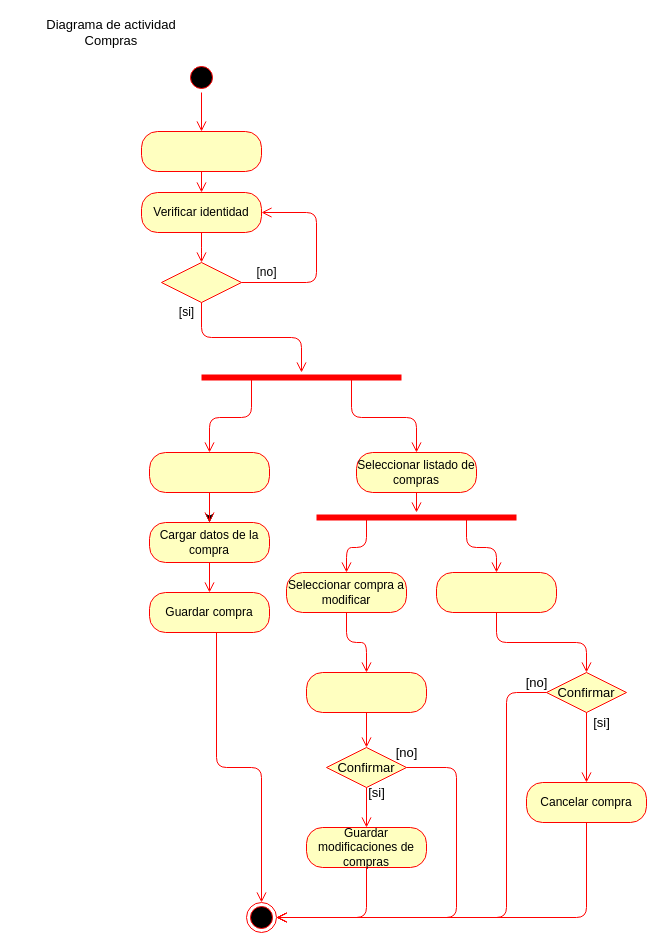
The diagram is 665 pixels wide and 950 high, and some of its shapes have lost their labels. The centre of each missing label's shape, as x and y in pixels:
Acceder al sistema: point (201, 151)
Modificar datos de la compra: point (366, 692)
Seleccionar compra a a cancelar: point (496, 592)
Seleccionar formulario de comprar: point (209, 472)
usuario válido: point (201, 282)
